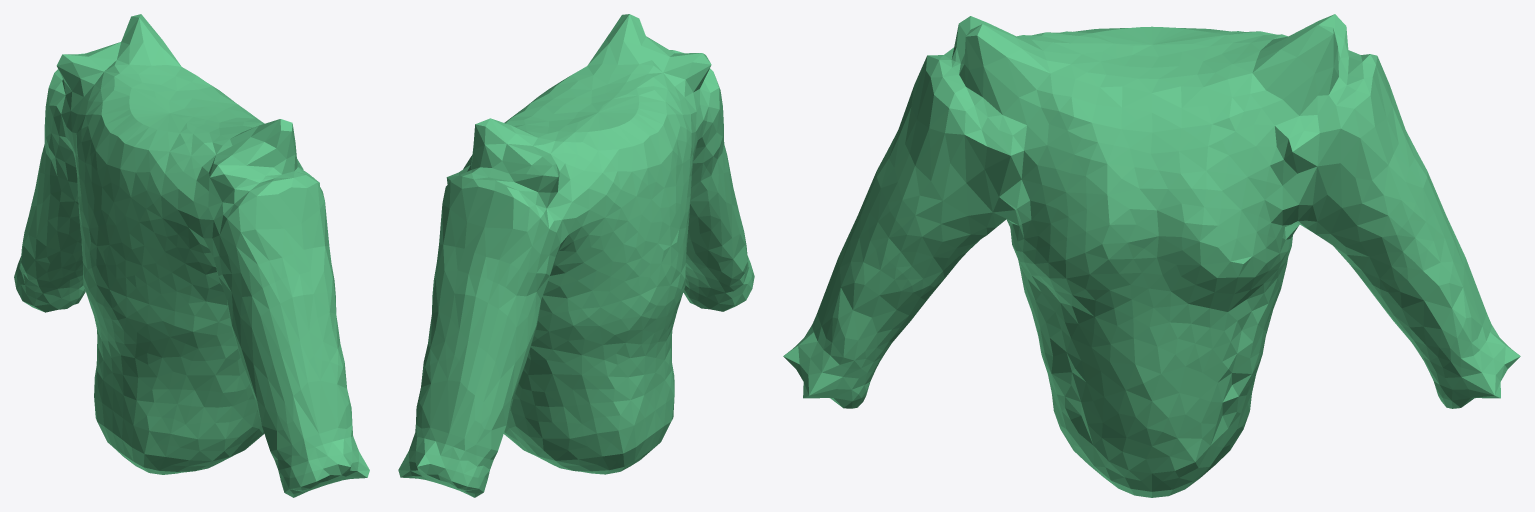
The model's file is torso_variant-1.glb.
3 renders of one model, left to right at view 1: azimuth 30°, elevation 25°; view 2: azimuth 150°, elevation 25°; view 3: azimuth 270°, elevation 25°, orthographic. The views are drawn at different scales.
Parts seen in each view (by area): view 1: top-01; view 2: top-01; view 3: top-01.
Boxes of the visible parts, box(x1,y1,x2,y2) form: top-01: box(14, 14, 369, 497); top-01: box(398, 14, 754, 497); top-01: box(783, 14, 1520, 497).
Bounding box in the file's own units: 0.6418 × 1.2 × 1.73.
